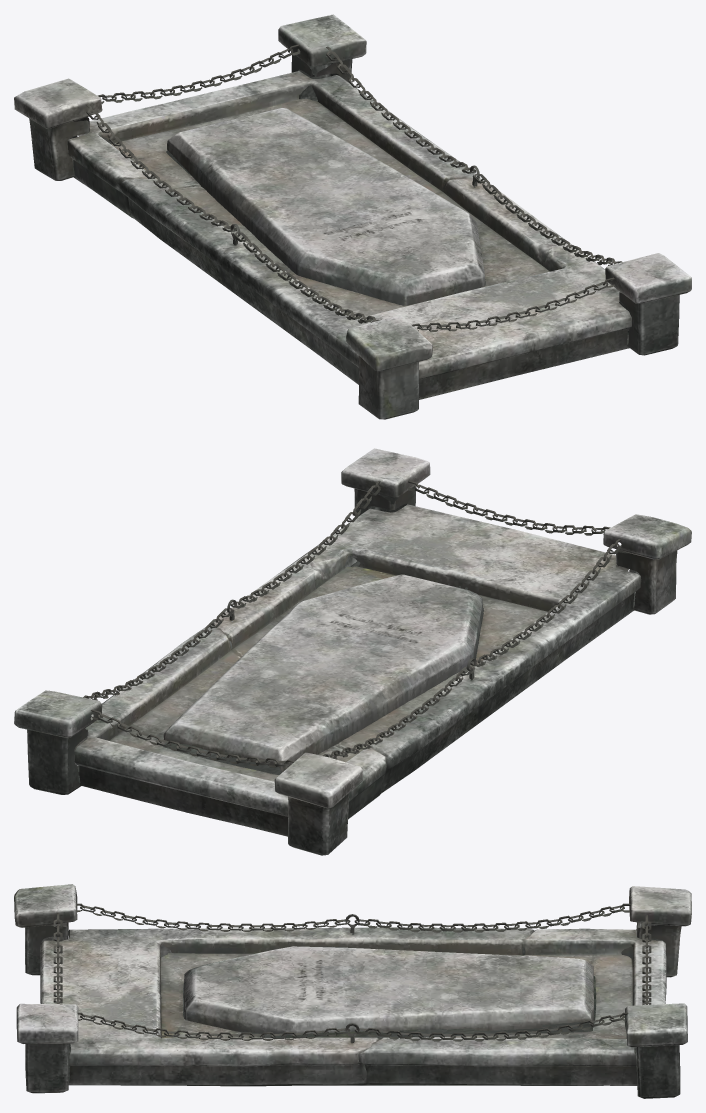
The picture shows the model from 3 angles, top to bottom: view 1: azimuth 30°, elevation 25°; view 2: azimuth 150°, elevation 25°; view 3: azimuth 270°, elevation 25°; orthographic projection. The views are drawn at different scales.
Parts seen in each view (by area): view 1: SM_Human_Gravestone_Base_02_LOD0; view 2: SM_Human_Gravestone_Base_02_LOD0; view 3: SM_Human_Gravestone_Base_02_LOD0.
Boxes of the visible parts, x1,y1,x2,y2 form: SM_Human_Gravestone_Base_02_LOD0: [14, 14, 691, 419]; SM_Human_Gravestone_Base_02_LOD0: [14, 448, 691, 855]; SM_Human_Gravestone_Base_02_LOD0: [14, 884, 691, 1098].
Size of the model in its own units: 1.97 by 0.4912 by 3.87.
2 materials, 2 textured.
